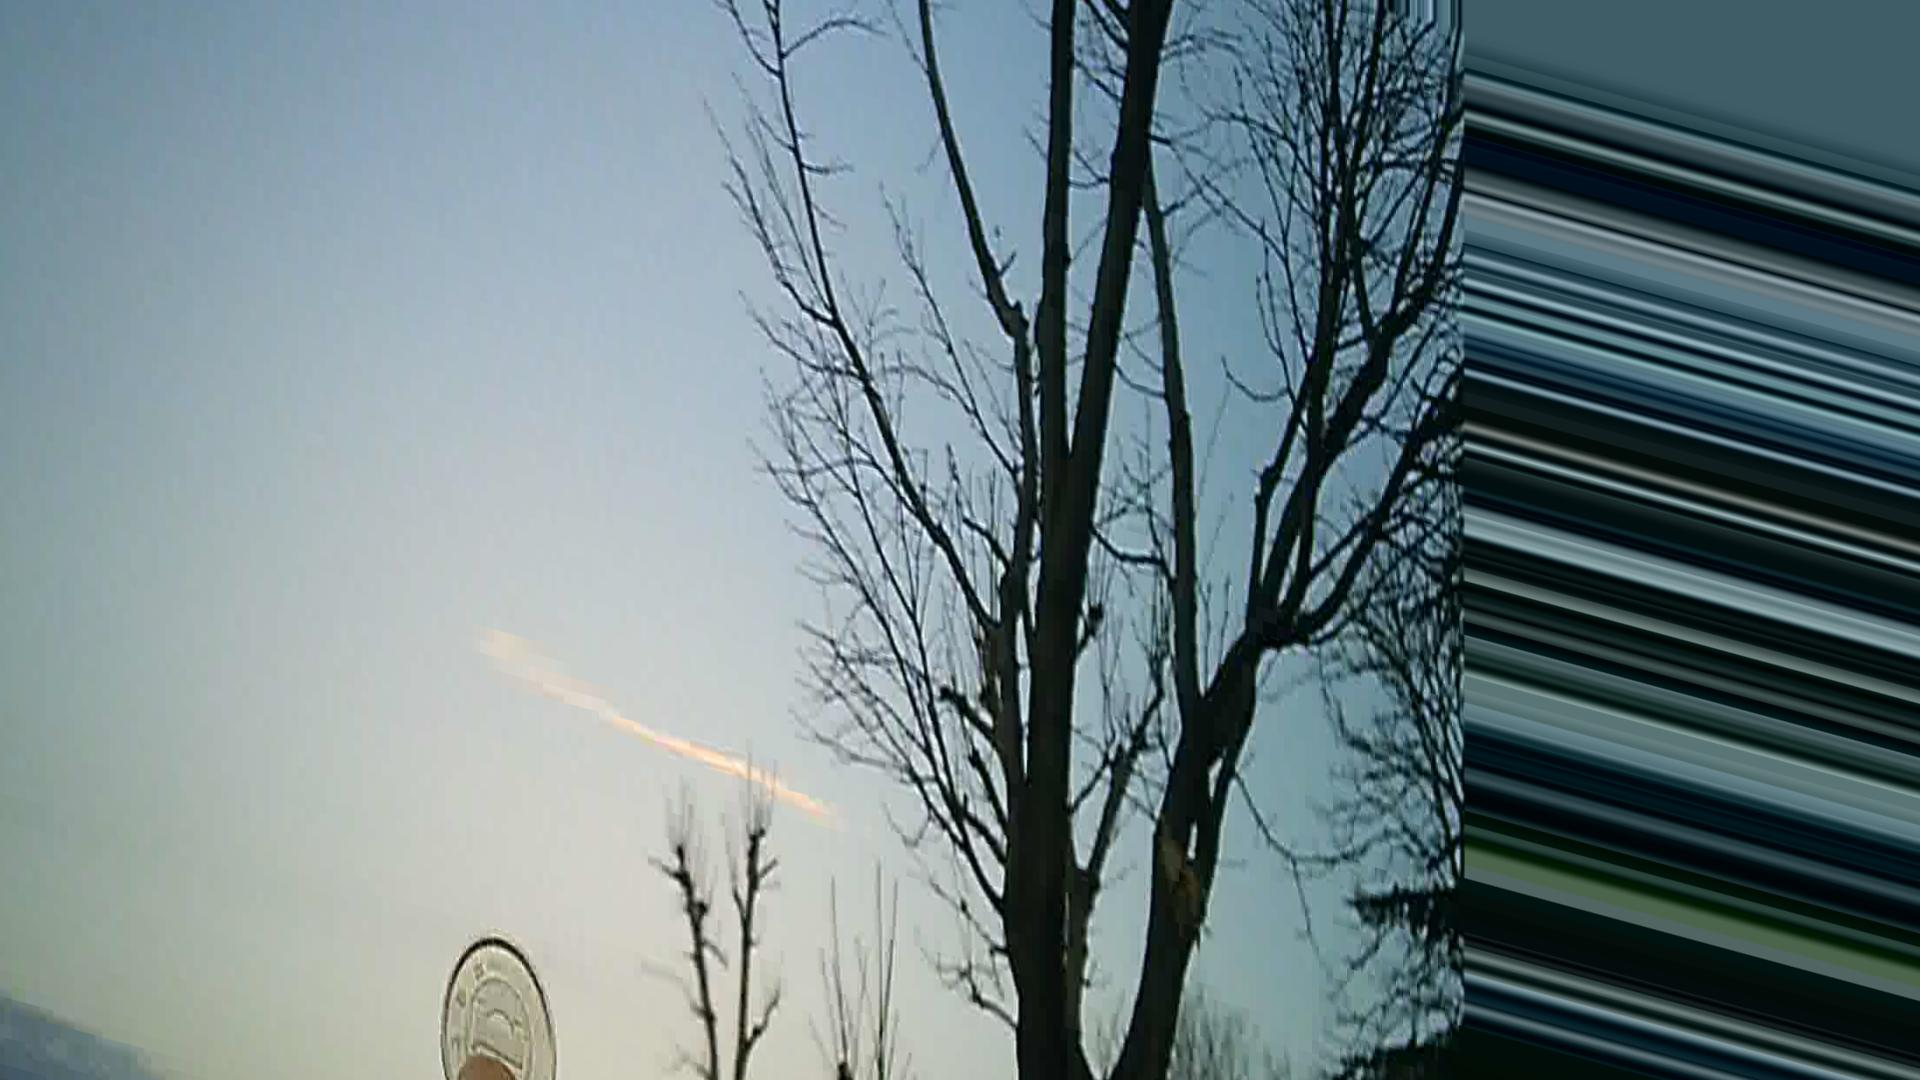1 Yen: (429, 924, 584, 1079)
